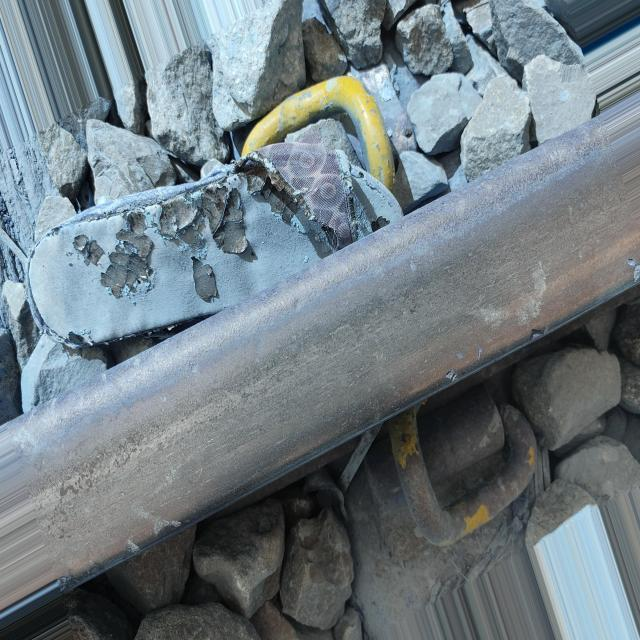Good Fasteners: (345, 384, 538, 637), (242, 76, 395, 191)
